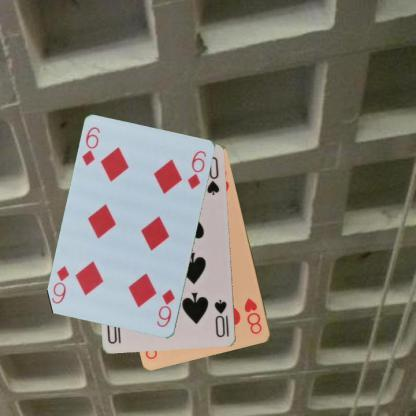10s: (212, 297, 231, 339)
6d: (79, 124, 102, 168), (154, 287, 176, 329)
8h: (242, 295, 264, 336)
